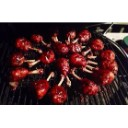chicken_lollipop: (10, 50, 56, 69), (73, 69, 102, 97), (88, 61, 118, 88), (11, 36, 45, 54), (28, 75, 53, 98), (53, 71, 68, 103), (52, 27, 69, 55), (8, 66, 44, 79), (82, 38, 105, 57), (89, 50, 120, 63), (72, 26, 94, 43)
